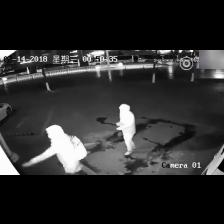person: (23, 125, 87, 174), (117, 104, 135, 155)
